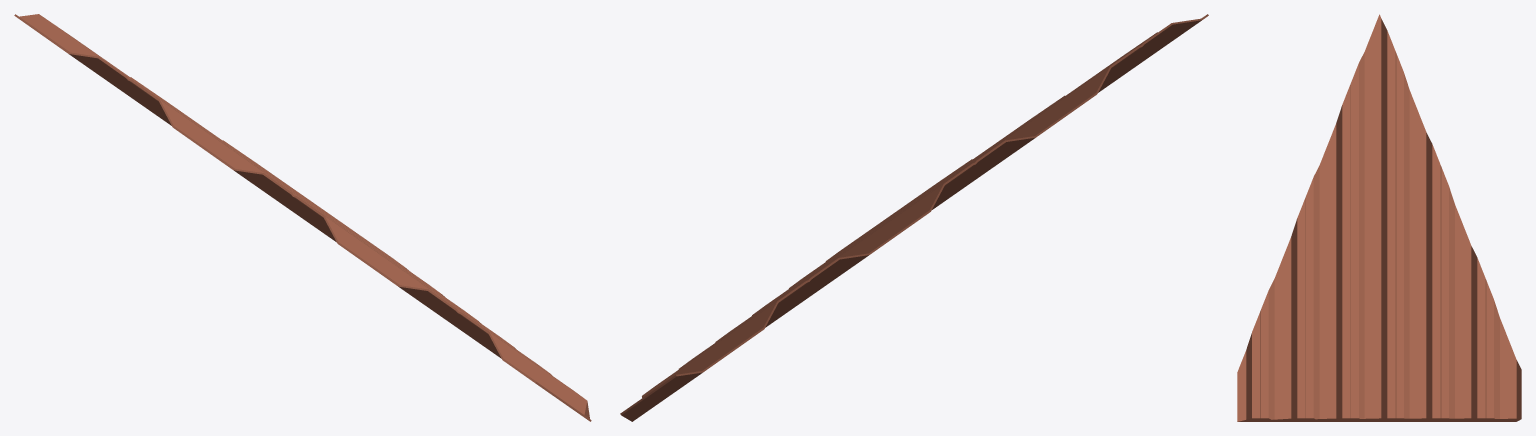
Rendered from SM_Timber_BayRoof_C.fbx.
The picture shows the model from 3 angles, left to right: view 1: azimuth 30°, elevation 25°; view 2: azimuth 150°, elevation 25°; view 3: azimuth 270°, elevation 25°; orthographic projection. The views are drawn at different scales.
Visible parts, largest first — view 1: SM_Timber_BayRoof_C; view 2: SM_Timber_BayRoof_C; view 3: SM_Timber_BayRoof_C.
Part boxes in pixels (bbox=[...]): SM_Timber_BayRoof_C: bbox=[14, 14, 591, 421]; SM_Timber_BayRoof_C: bbox=[620, 14, 1208, 421]; SM_Timber_BayRoof_C: bbox=[1237, 14, 1521, 421].
Size of the model in its own units: 141 by 125 by 120.
